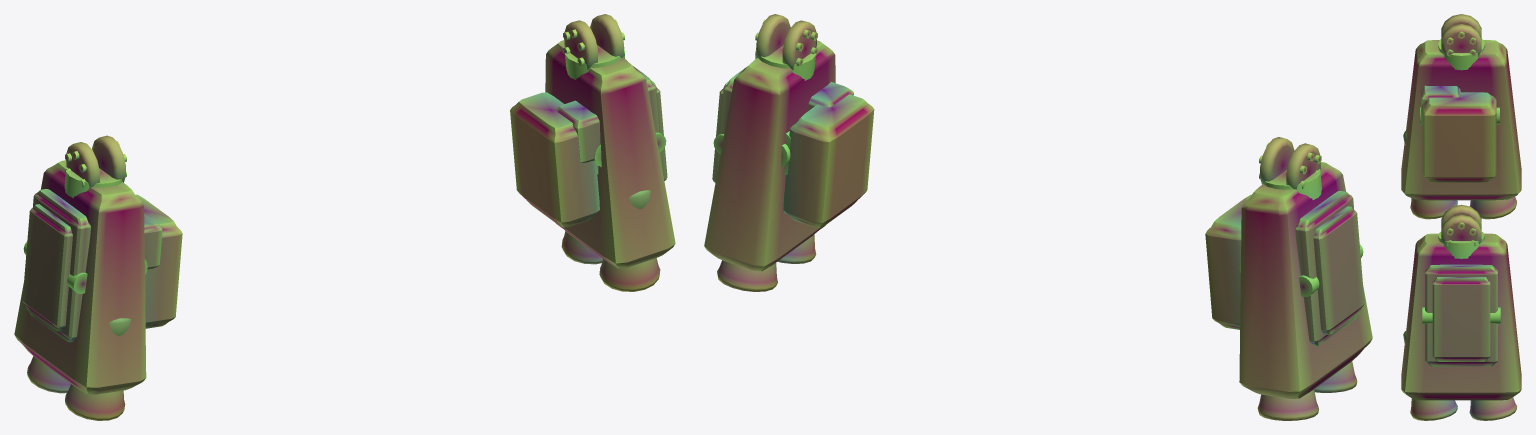
The model's file is llm_gen_leg_thrusters_046_8c1a05.glb.
3 views of the same model, side by side, from view 1: azimuth 30°, elevation 25°; view 2: azimuth 150°, elevation 25°; view 3: azimuth 270°, elevation 25° (orthographic). The views are drawn at different scales.
Visible parts, largest first — view 1: flare_cowling_main_0_adapter_dark_l, flare_cowling_main_0_adapter_dark_r, adapter_calf_clamp_r, flare_louver_gold_3_crimson_gloss_l, adapter_calf_clamp_l, adapter_sub_louver_frame_dark_1_adapter_dark_l, servo_5_servo_accent_r, servo_5_servo_accent_l, flare_bell_fwd_6_vernier_bell_vernier_l, flare_bell_fwd_6_vernier_bell_vernier_r, adapter_leg_knee_mount_dark_8_adapter_dark_r, flare_bell_aft_7_vernier_bell_vernier_l (+4 smaller); view 2: flare_cowling_main_0_adapter_dark_l, flare_cowling_main_0_adapter_dark_r, adapter_calf_clamp_r, flare_louver_gold_3_crimson_gloss_l, adapter_calf_clamp_l, adapter_sub_louver_frame_dark_1_adapter_dark_l, servo_5_servo_accent_r, servo_5_servo_accent_l, flare_bell_aft_7_vernier_bell_vernier_l, flare_bell_aft_7_vernier_bell_vernier_r, adapter_sub_top_cap_dark_4_adapter_dark_l, adapter_sub_top_cap_dark_4_adapter_dark_r (+2 smaller); view 3: flare_cowling_main_0_adapter_dark_r, flare_cowling_main_0_adapter_dark_l, adapter_calf_clamp_l, flare_louver_gold_3_crimson_gloss_r, adapter_sub_louver_frame_dark_1_adapter_dark_r, servo_5_servo_accent_l, servo_5_servo_accent_r, flare_bell_aft_7_vernier_bell_vernier_r, flare_bell_fwd_6_vernier_bell_vernier_r, flare_bell_aft_7_vernier_bell_vernier_l, flare_bell_fwd_6_vernier_bell_vernier_l, adapter_sub_top_cap_dark_4_adapter_dark_r (+5 smaller).
Part boxes in pixels (bbox=[...]): flare_cowling_main_0_adapter_dark_l: bbox=[14, 160, 146, 394]; flare_cowling_main_0_adapter_dark_r: bbox=[545, 40, 675, 268]; adapter_calf_clamp_r: bbox=[510, 92, 599, 227]; flare_louver_gold_3_crimson_gloss_l: bbox=[22, 204, 72, 331]; adapter_calf_clamp_l: bbox=[135, 194, 182, 328]; adapter_sub_louver_frame_dark_1_adapter_dark_l: bbox=[25, 189, 90, 342]; servo_5_servo_accent_r: bbox=[564, 14, 623, 69]; servo_5_servo_accent_l: bbox=[66, 135, 125, 187]; flare_bell_fwd_6_vernier_bell_vernier_l: bbox=[65, 384, 125, 420]; flare_bell_fwd_6_vernier_bell_vernier_r: bbox=[599, 258, 660, 291]; adapter_leg_knee_mount_dark_8_adapter_dark_r: bbox=[555, 100, 600, 162]; flare_bell_aft_7_vernier_bell_vernier_l: bbox=[27, 356, 70, 393]; flare_cowling_main_0_adapter_dark_l: bbox=[1239, 162, 1372, 398]; flare_cowling_main_0_adapter_dark_r: bbox=[704, 40, 835, 271]; adapter_calf_clamp_r: bbox=[783, 94, 874, 227]; flare_louver_gold_3_crimson_gloss_l: bbox=[1313, 206, 1364, 334]; adapter_calf_clamp_l: bbox=[1205, 194, 1251, 329]; adapter_sub_louver_frame_dark_1_adapter_dark_l: bbox=[1295, 190, 1362, 345]; servo_5_servo_accent_r: bbox=[756, 14, 816, 70]; servo_5_servo_accent_l: bbox=[1260, 137, 1320, 189]; flare_bell_aft_7_vernier_bell_vernier_l: bbox=[1257, 389, 1318, 420]; flare_bell_aft_7_vernier_bell_vernier_r: bbox=[717, 260, 777, 291]; adapter_sub_top_cap_dark_4_adapter_dark_l: bbox=[1263, 169, 1321, 199]; adapter_sub_top_cap_dark_4_adapter_dark_r: bbox=[755, 45, 815, 80]; flare_cowling_main_0_adapter_dark_r: bbox=[1401, 233, 1521, 400]; flare_cowling_main_0_adapter_dark_l: bbox=[1401, 40, 1521, 200]; adapter_calf_clamp_l: bbox=[1422, 92, 1496, 182]; flare_louver_gold_3_crimson_gloss_r: bbox=[1432, 277, 1490, 361]; adapter_sub_louver_frame_dark_1_adapter_dark_r: bbox=[1425, 264, 1497, 366]; servo_5_servo_accent_l: bbox=[1441, 14, 1481, 56]; servo_5_servo_accent_r: bbox=[1441, 204, 1481, 243]; flare_bell_aft_7_vernier_bell_vernier_r: bbox=[1469, 397, 1517, 420]; flare_bell_fwd_6_vernier_bell_vernier_r: bbox=[1410, 398, 1457, 420]; flare_bell_aft_7_vernier_bell_vernier_l: bbox=[1470, 197, 1516, 219]; flare_bell_fwd_6_vernier_bell_vernier_l: bbox=[1410, 198, 1457, 219]; adapter_sub_top_cap_dark_4_adapter_dark_r: bbox=[1438, 232, 1484, 258].
Bounding box in the file's own units: 81.95 × 32.25 × 17.85.
